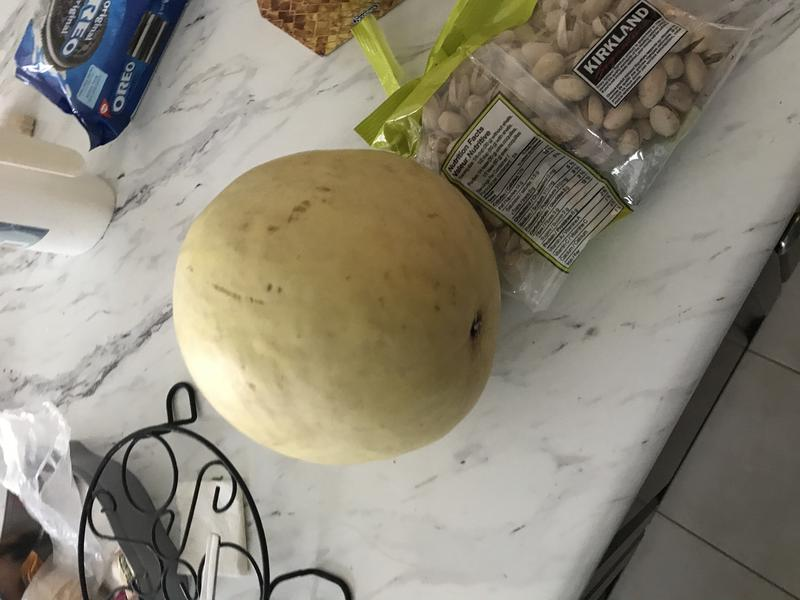honeydew: (158, 137, 514, 477)
